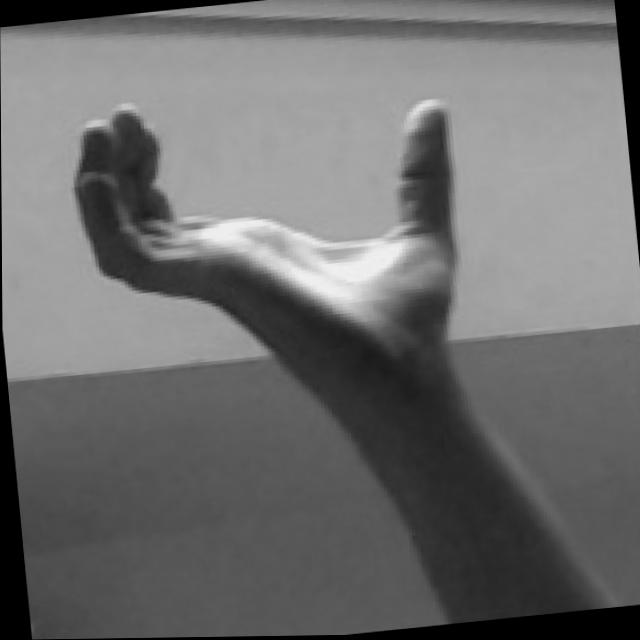space: (65, 67, 477, 377)
